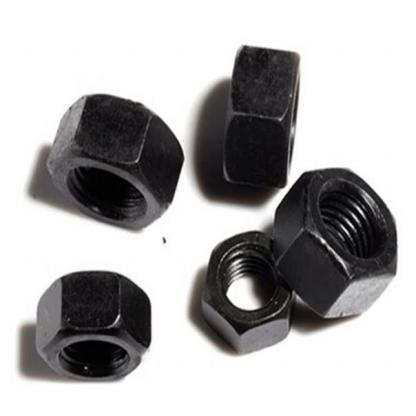FOD: (267, 165, 401, 324), (43, 90, 184, 232), (32, 268, 152, 386), (220, 44, 308, 196), (199, 228, 302, 356)
